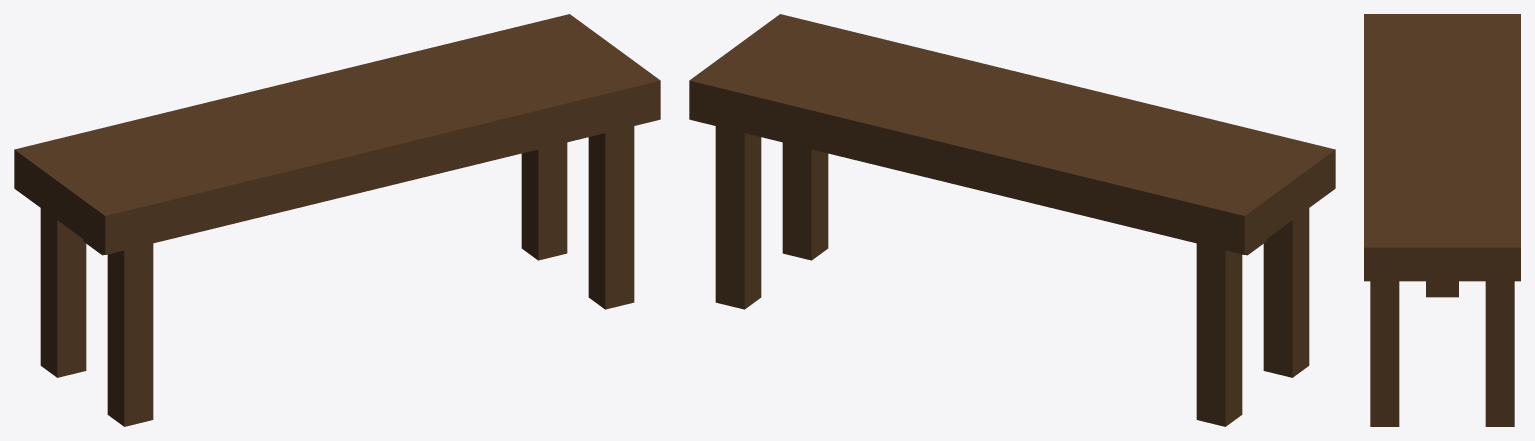
The model's file is bench_wood_80s.glb.
3 views of the same model, side by side, from view 1: azimuth 30°, elevation 25°; view 2: azimuth 150°, elevation 25°; view 3: azimuth 270°, elevation 25° (orthographic). The views are drawn at different scales.
Visible parts, largest first — view 1: wood__seat, _MeshInstance3D_126, _MeshInstance3D_124, wood__square_leg, _MeshInstance3D_125; view 2: wood__seat, _MeshInstance3D_125, wood__square_leg, _MeshInstance3D_124, _MeshInstance3D_126; view 3: wood__seat, _MeshInstance3D_125, _MeshInstance3D_126, wood__underside_rail.
Part boxes in pixels (bbox=[...]): wood__seat: bbox=[14, 14, 660, 254]; _MeshInstance3D_126: bbox=[588, 126, 634, 309]; _MeshInstance3D_124: bbox=[107, 243, 153, 426]; wood__square_leg: bbox=[40, 208, 86, 377]; _MeshInstance3D_125: bbox=[521, 142, 567, 260]; wood__seat: bbox=[689, 14, 1335, 254]; _MeshInstance3D_125: bbox=[715, 126, 761, 309]; wood__square_leg: bbox=[1196, 243, 1242, 426]; _MeshInstance3D_124: bbox=[1263, 208, 1309, 377]; _MeshInstance3D_126: bbox=[782, 142, 828, 260]; wood__seat: bbox=[1364, 14, 1520, 281]; _MeshInstance3D_125: bbox=[1485, 281, 1514, 426]; _MeshInstance3D_126: bbox=[1370, 281, 1399, 426]; wood__underside_rail: bbox=[1426, 281, 1458, 297].
Bounding box in the file's own units: 1.34 × 0.505 × 0.38.
